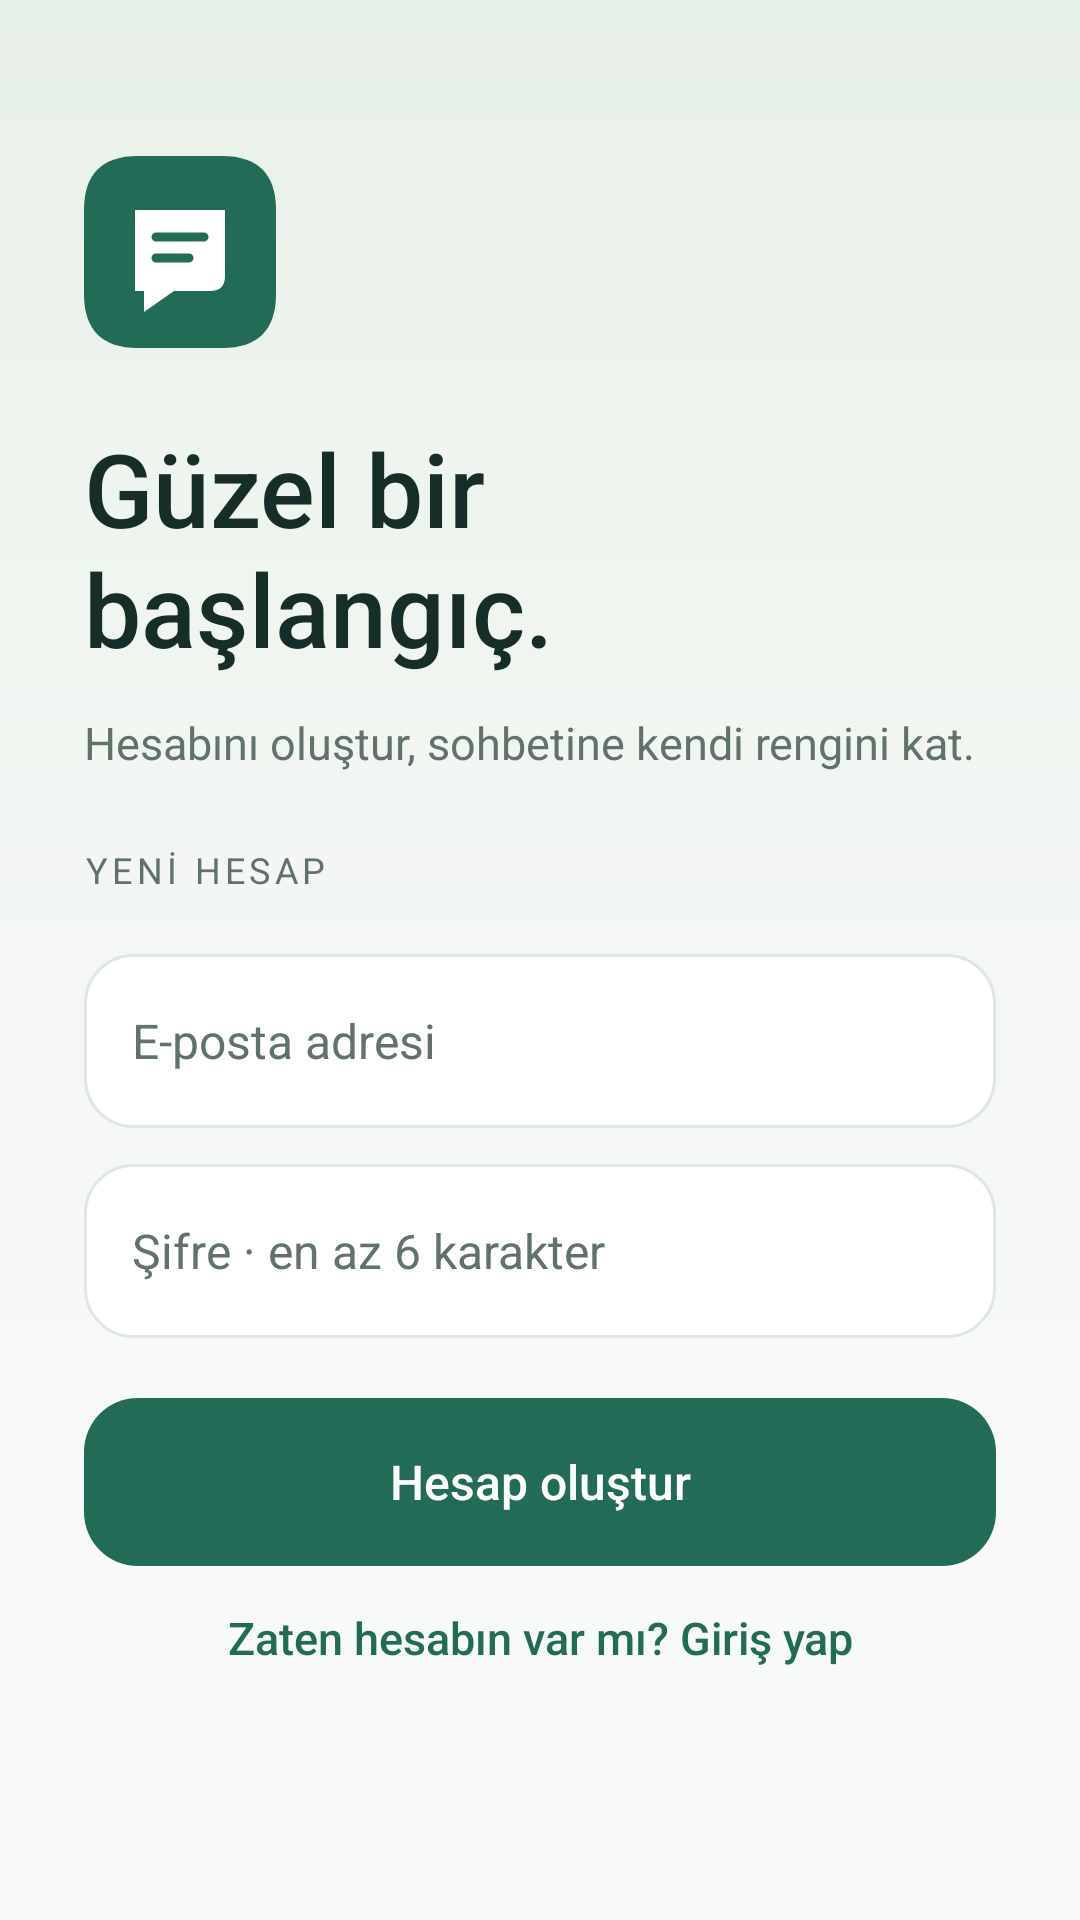

Icon bounding boxes for this 1080w x 1920h phone screenshot, format (x1, y1, x2, y2):
ME Chat: (84, 156, 276, 348)
